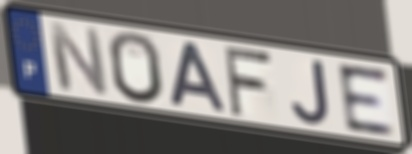A: (167, 39, 229, 115)
E: (333, 61, 398, 137)
F: (220, 43, 274, 119)
J: (289, 57, 333, 128)
N: (44, 19, 112, 99)
O: (106, 29, 167, 107)
